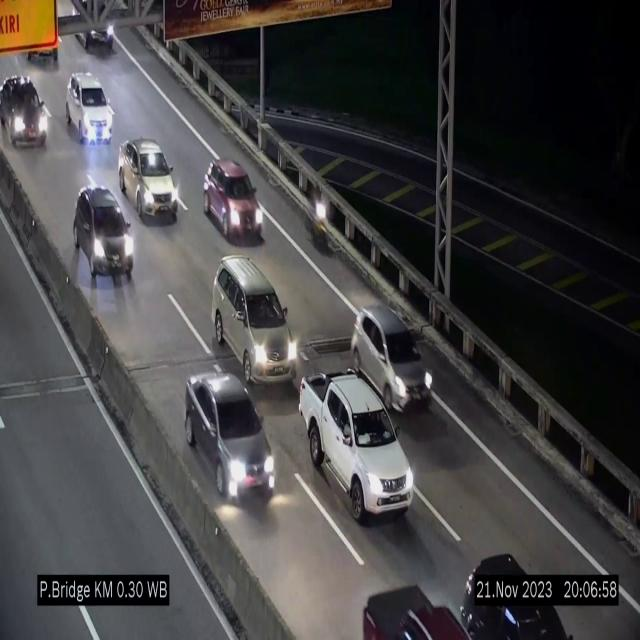Car: (298, 371, 414, 522), (212, 253, 296, 392), (185, 372, 275, 500), (455, 546, 562, 640), (352, 306, 434, 410), (73, 183, 136, 286), (119, 137, 179, 221), (204, 160, 262, 242), (0, 76, 48, 165), (66, 71, 114, 145)
Motorcycle: (308, 178, 334, 260)
